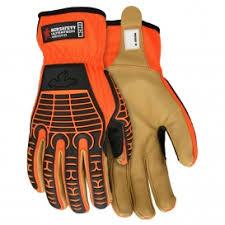gloves: (26, 6, 133, 213), (104, 20, 198, 220)
